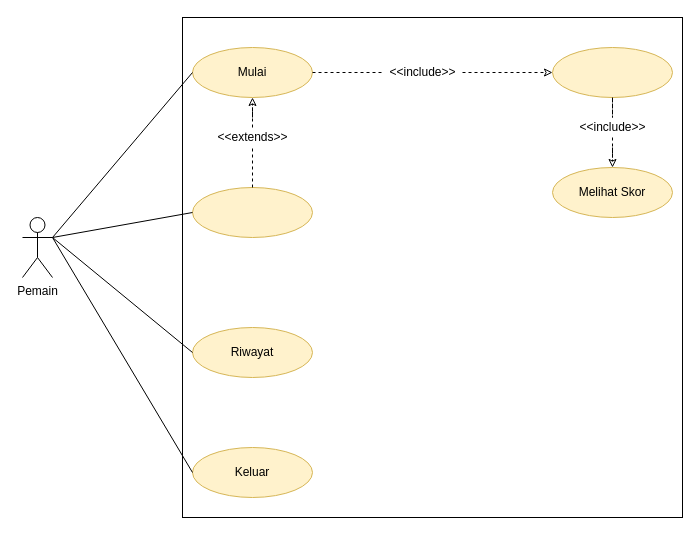
Some shapes in this 700 by 535 pixel diagram are drawn without their labels. The shapes that lost their labels are listed below. From the top down, each one's centre as x and y in pixels, then its label:
point 612,72: Membuat Nama
point 252,212: Pengaturan
